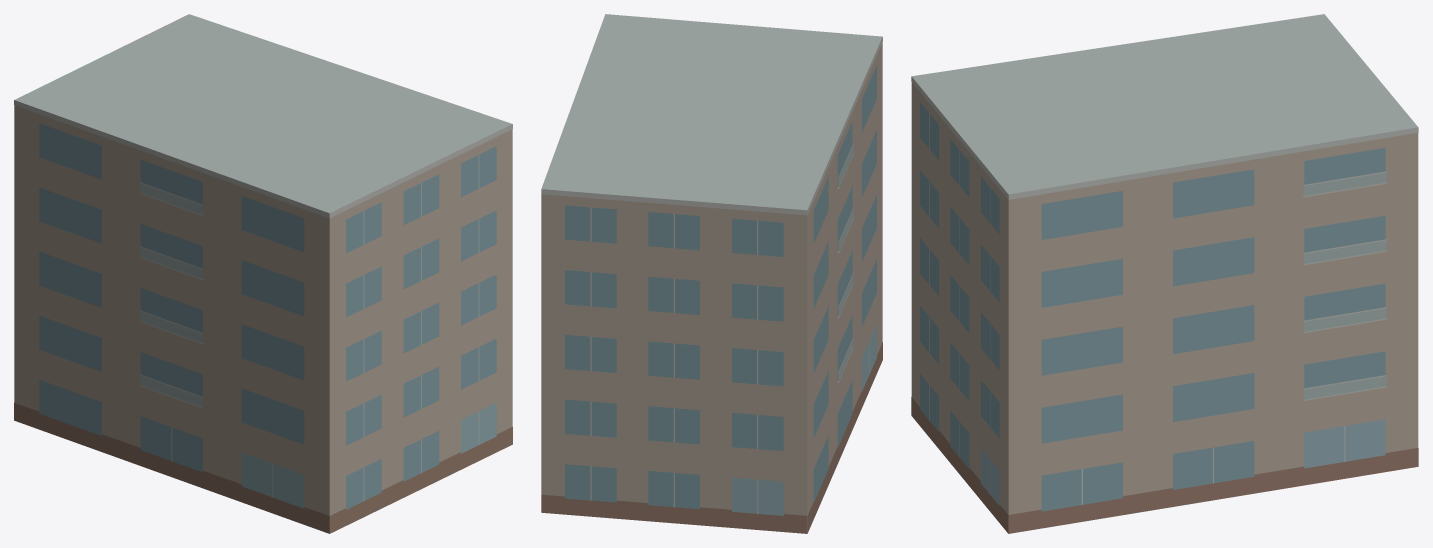
File: survey-upis-32947811.glb
3 renders of one model, left to right at view 1: azimuth 30°, elevation 25°; view 2: azimuth 150°, elevation 25°; view 3: azimuth 270°, elevation 25°, orthographic. The views are drawn at different scales.
Visible parts, largest first — view 1: survey-upis-32947811.tmp; view 2: survey-upis-32947811.tmp; view 3: survey-upis-32947811.tmp.
Boxes of the visible parts, left/top/right/bottom form: survey-upis-32947811.tmp: left=14, top=14, right=512, bottom=533; survey-upis-32947811.tmp: left=541, top=14, right=882, bottom=533; survey-upis-32947811.tmp: left=911, top=14, right=1418, bottom=533.
Bounding box in the file's own units: 17.52 × 15.35 × 20.79.
